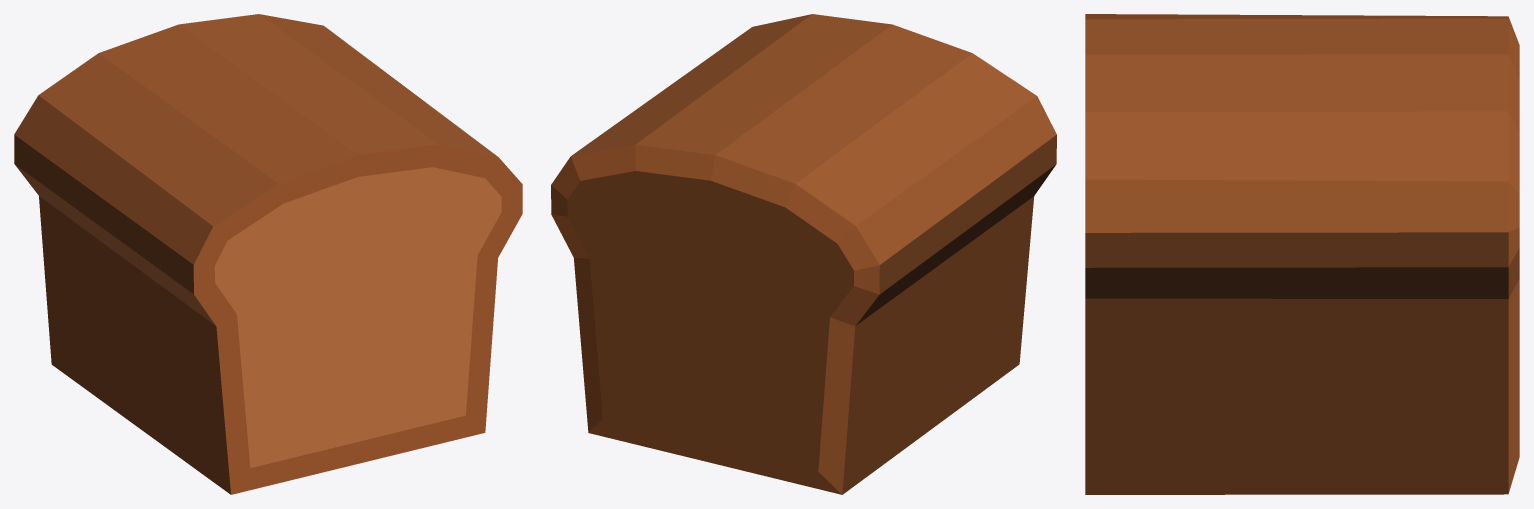
File: BAKE_Bread_Dark_07_Cut_2.fbx
3 views of the same model, side by side, from view 1: azimuth 30°, elevation 25°; view 2: azimuth 150°, elevation 25°; view 3: azimuth 270°, elevation 25° (orthographic). The views are drawn at different scales.
Visible parts, largest first — view 1: BAKE_Bread_Dark_07_Cut_2; view 2: BAKE_Bread_Dark_07_Cut_2; view 3: BAKE_Bread_Dark_07_Cut_2.
Part boxes in pixels (x1,y1,x2,y2): BAKE_Bread_Dark_07_Cut_2: (14, 14, 522, 494); BAKE_Bread_Dark_07_Cut_2: (551, 14, 1056, 494); BAKE_Bread_Dark_07_Cut_2: (1085, 14, 1519, 494).
Size of the model in its own units: 0.2361 by 0.2113 by 0.2267.
